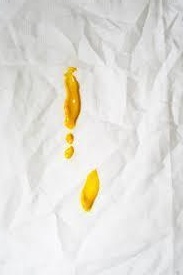mustard: (57, 63, 86, 131), (83, 166, 102, 209), (64, 144, 76, 159), (67, 133, 75, 141)
